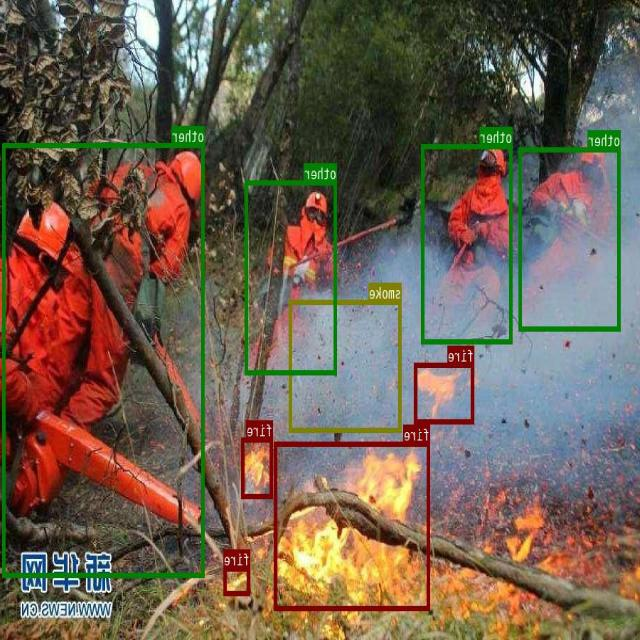fire: (275, 442, 431, 609), (415, 362, 474, 423), (242, 437, 274, 498), (224, 566, 251, 595)
other: (3, 142, 205, 577), (520, 147, 621, 330), (422, 143, 513, 342), (246, 180, 337, 374)
smoke: (290, 299, 402, 432)
